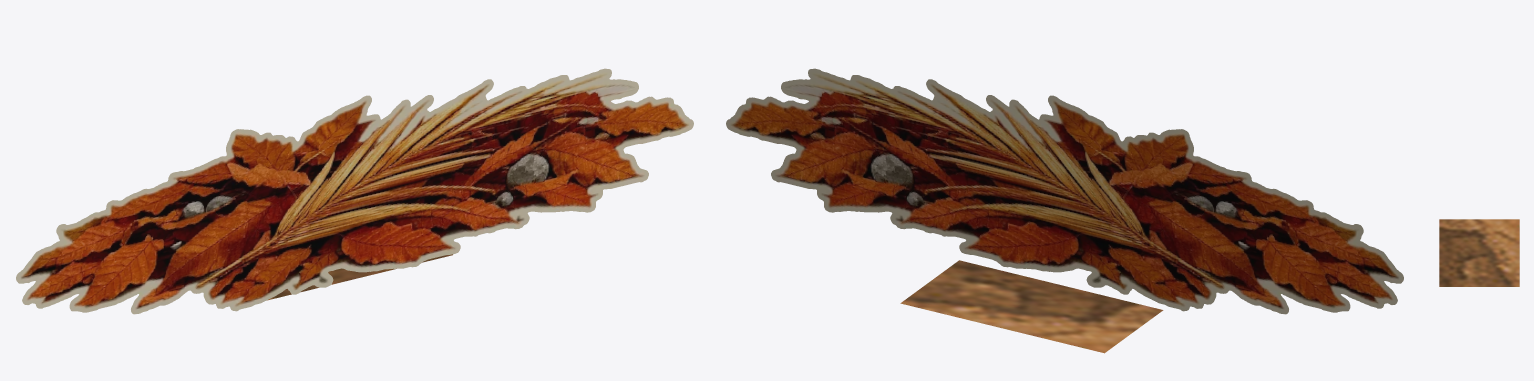
Rendered from toad-prop-cluster-leaves.glb.
3 views of the same model, side by side, from view 1: azimuth 30°, elevation 25°; view 2: azimuth 150°, elevation 25°; view 3: azimuth 270°, elevation 25° (orthographic). The views are drawn at different scales.
Visible parts, largest first — view 1: cluster-leaves; view 2: cluster-leaves; view 3: cluster-leaves.
Part boxes in pixels (x1,y1,x2,y2): cluster-leaves: (16, 68, 693, 314); cluster-leaves: (726, 68, 1403, 353); cluster-leaves: (1439, 219, 1519, 286).
Size of the model in its own units: 0.22 by 0.0576 by 0.035.
1 material, 1 textured.
